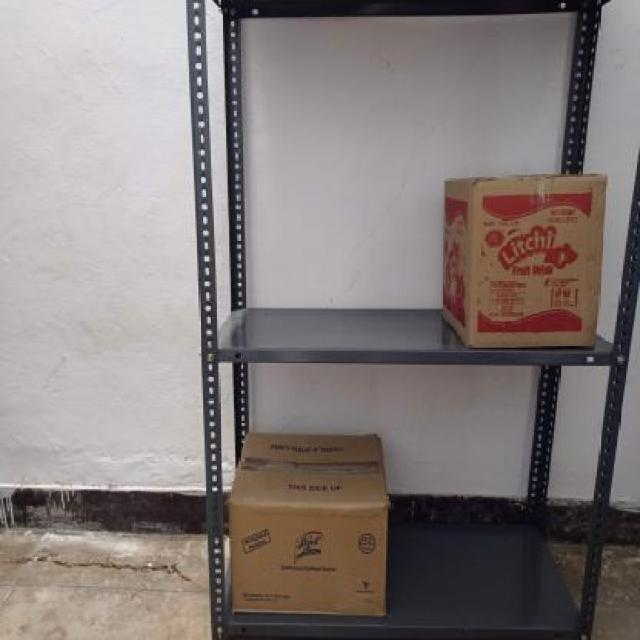box: (471, 175, 600, 352), (227, 499, 390, 618)
